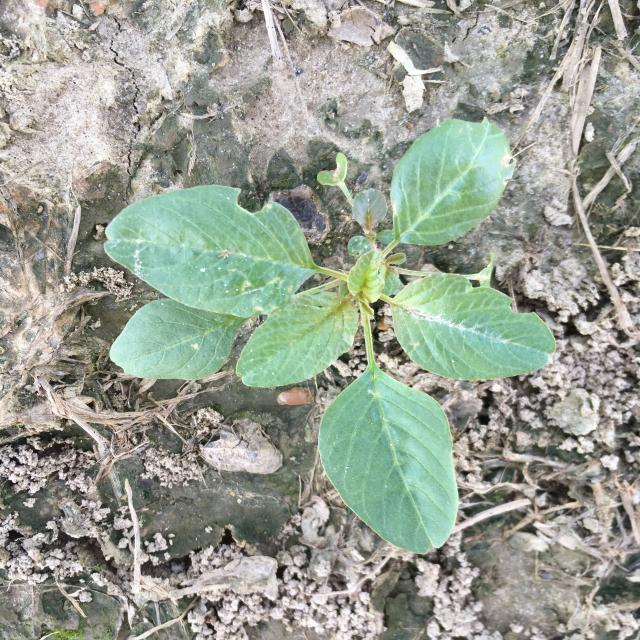PalmerAmaranth: (103, 116, 556, 555)
